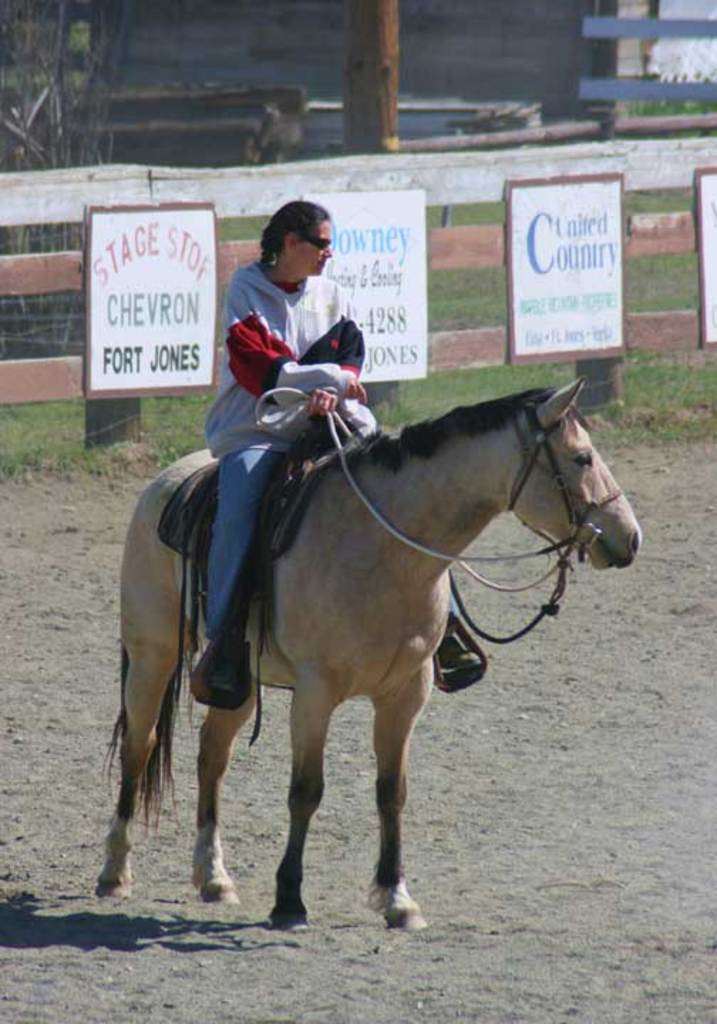horse: (95, 376, 641, 931)
